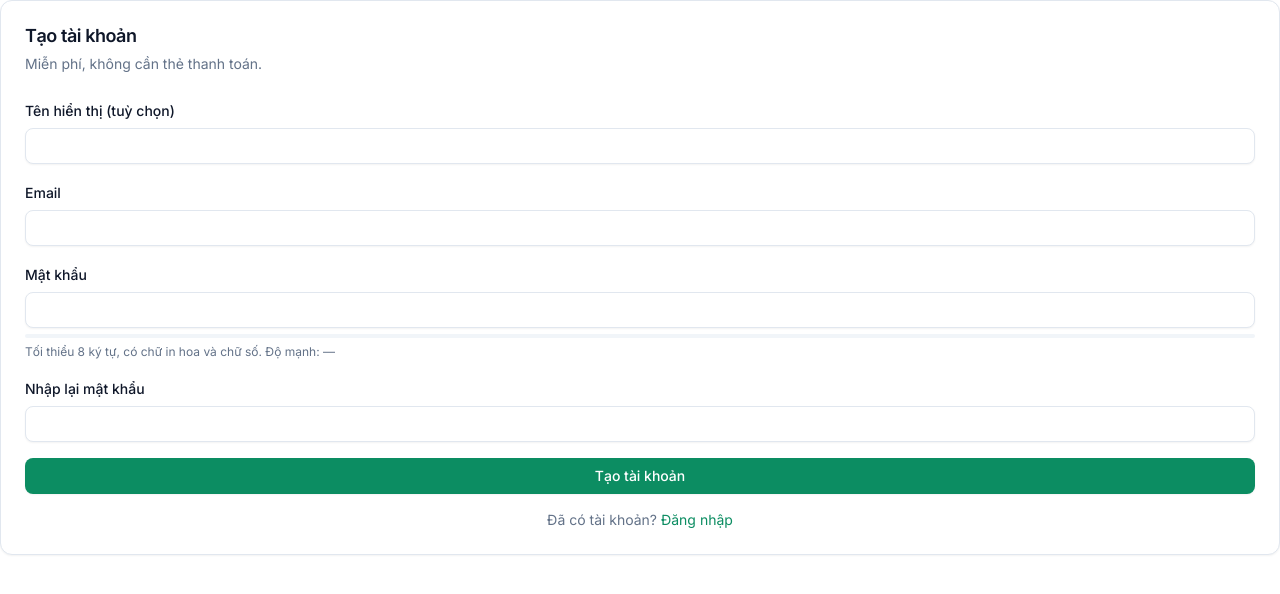
Test case: RegisterPage › báo lỗi khi mật khẩu xác nhận không khớp
In the field labelled "Email": (640, 228) [25,210,1255,246], type "user@a.com"
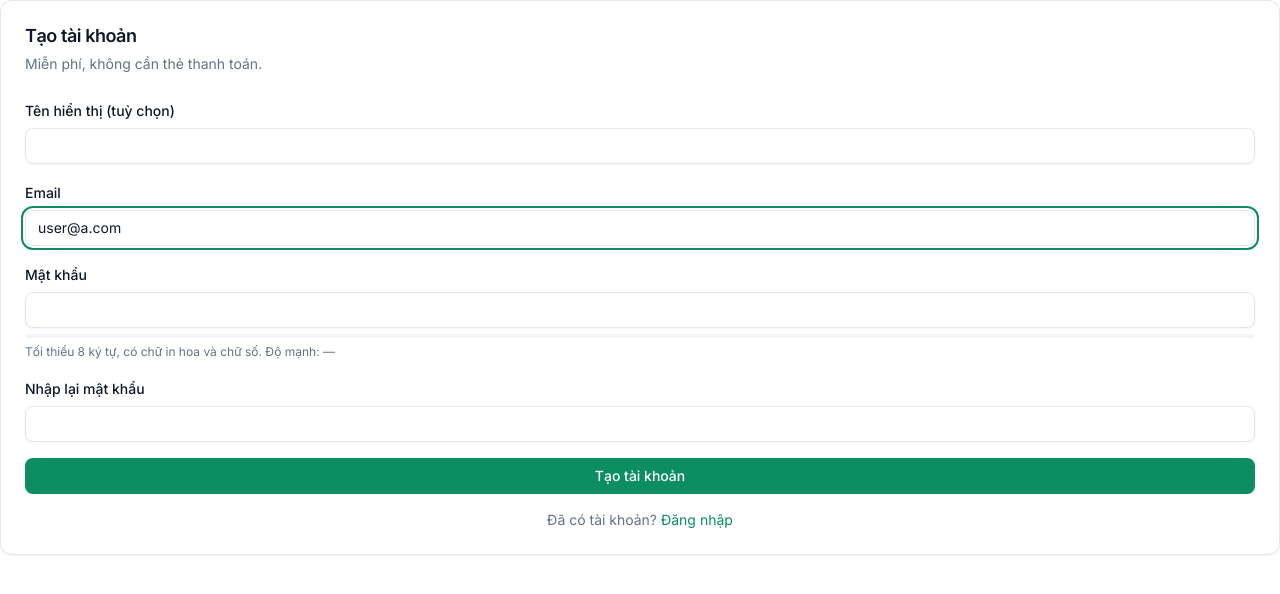
In the password field labelled "Mật khẩu": (640, 310) [25,292,1255,328], type "Strong-Pass-1"
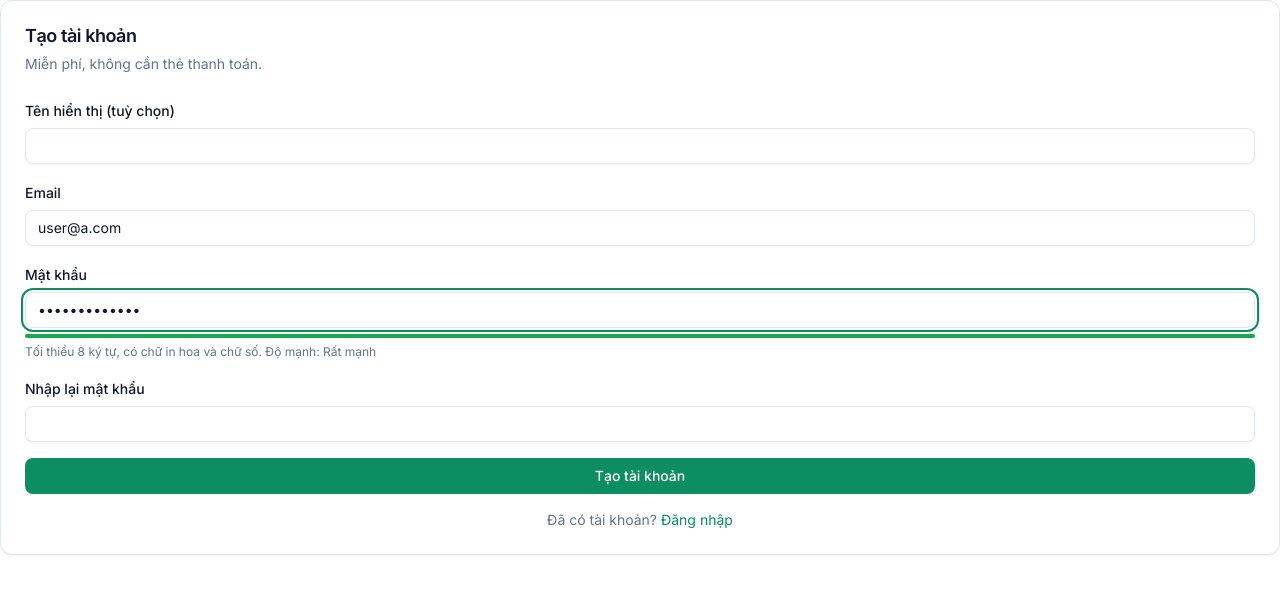
In the password field labelled "Nhập lại mật khẩu": (640, 424) [25,406,1255,442], type "Different-Pass-2"
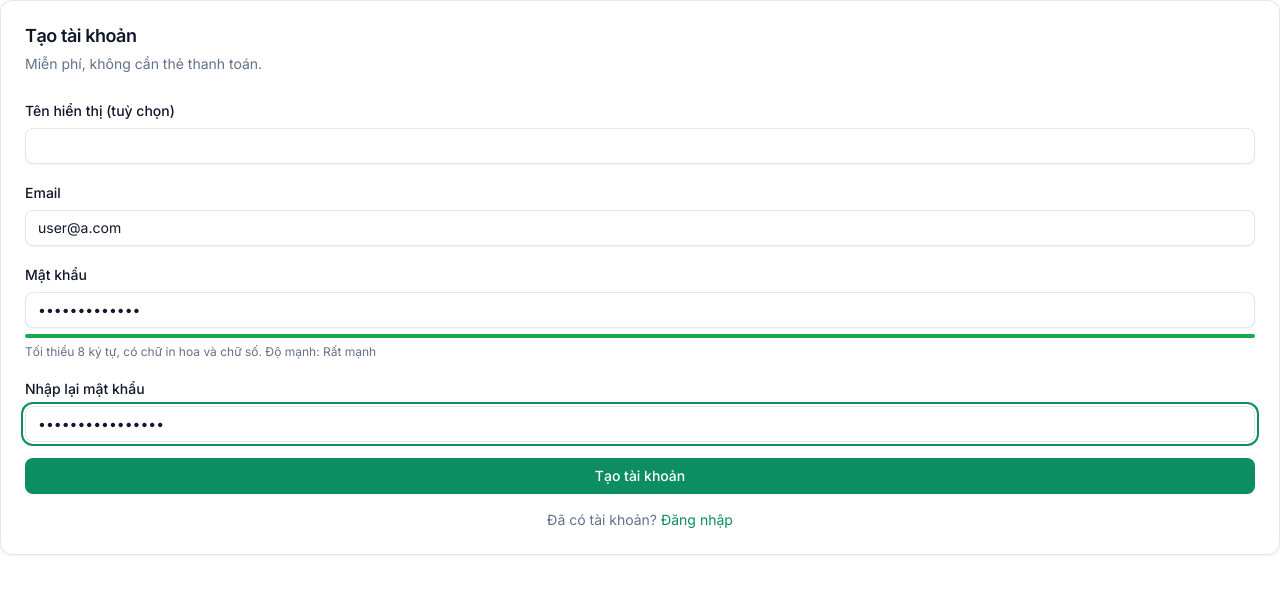
Click the button "Tạo tài khoản": (640, 476) [25,458,1255,494]
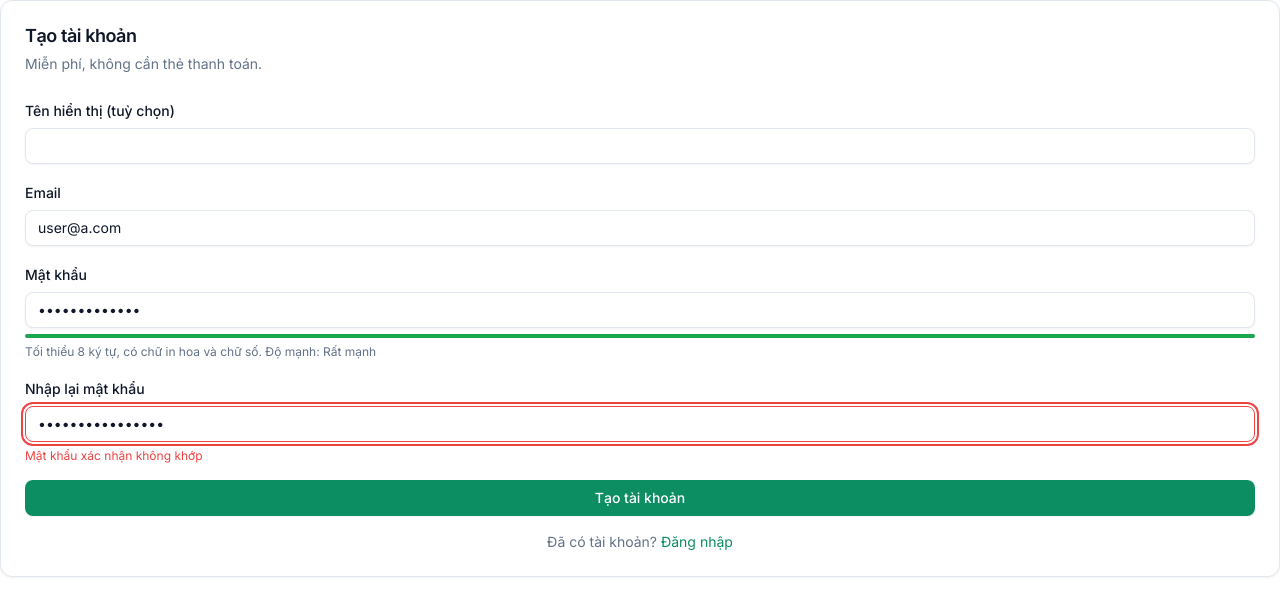
Expected: the text "Mật khẩu xác nhận không khớp" is shown, [25,448,203,462]
